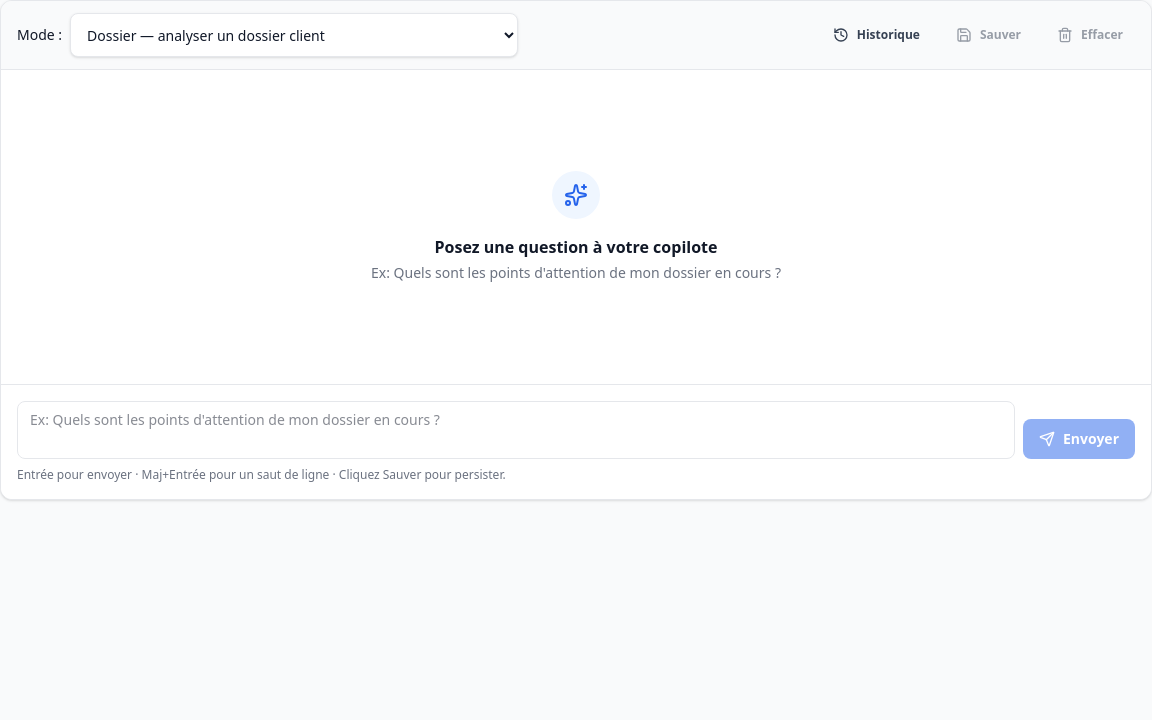
Test: ChatInterface › envoie une question et affiche les chunks streames
Replace the text in the text box named "votre question" with "Salut": (516, 430) x1=17 y1=401 x2=1015 y2=459
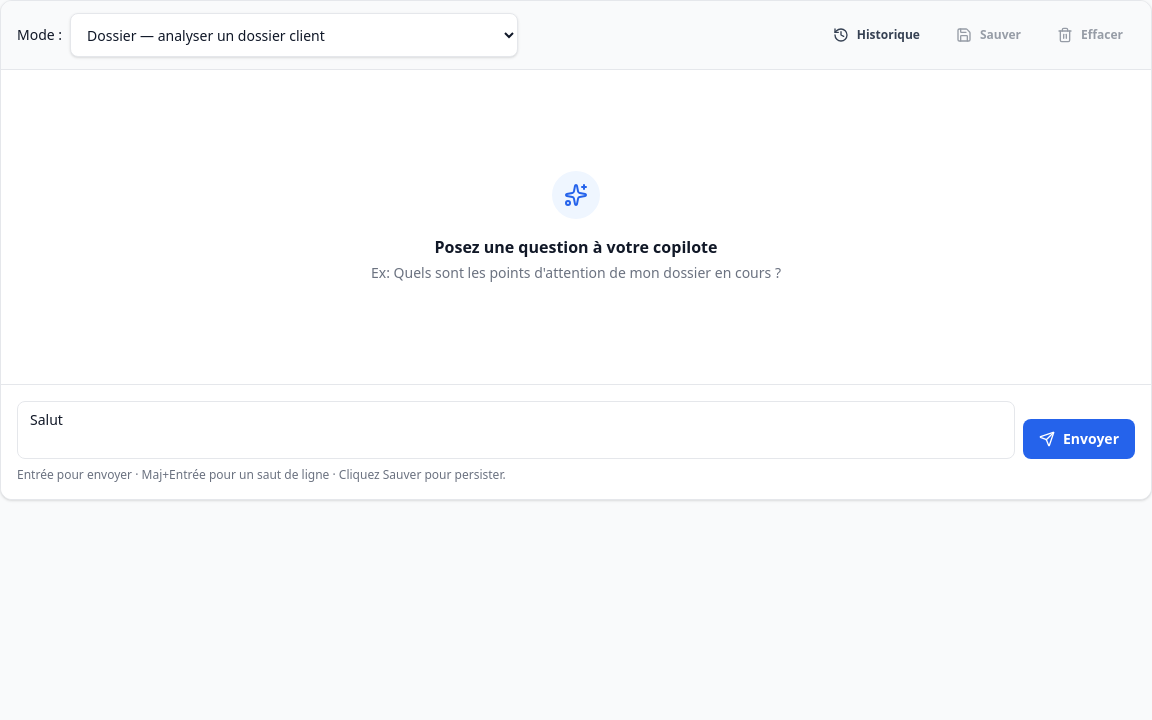
Click the button with aria-label "envoyer la question": (1079, 439) x1=1023 y1=419 x2=1135 y2=459
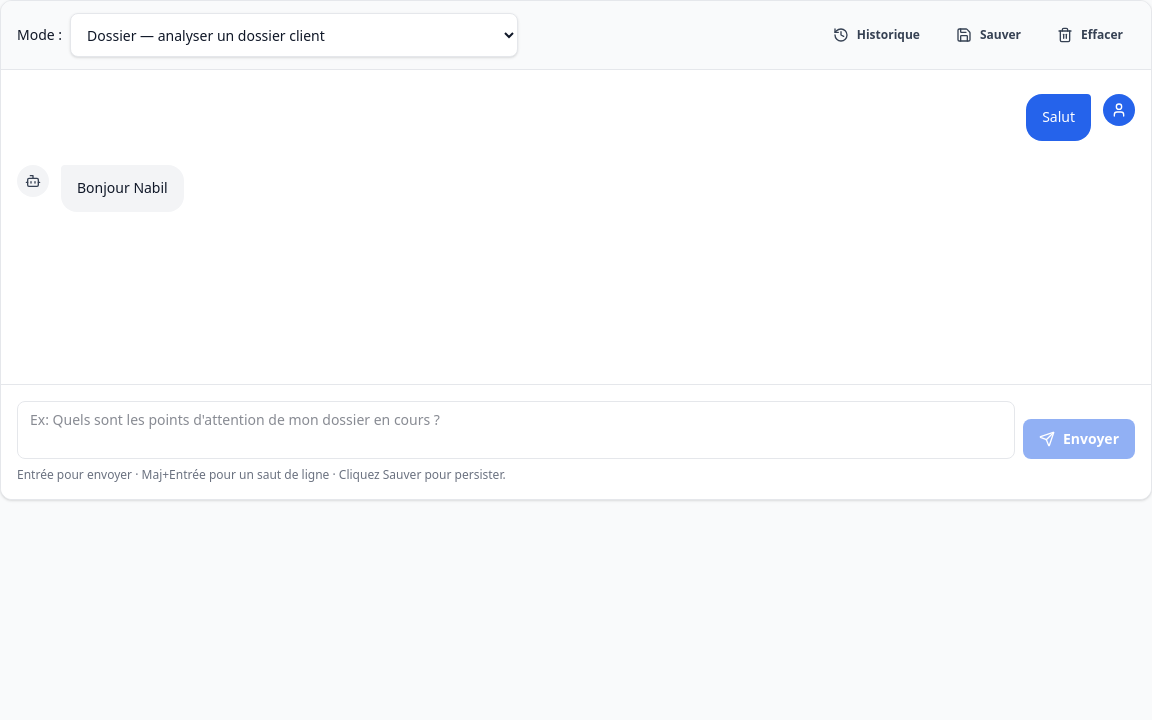
expect the text "Bonjour Nabil" is shown: met, box x1=61 y1=165 x2=184 y2=212
expect the text "Salut" is shown: met, box x1=1026 y1=94 x2=1091 y2=141
